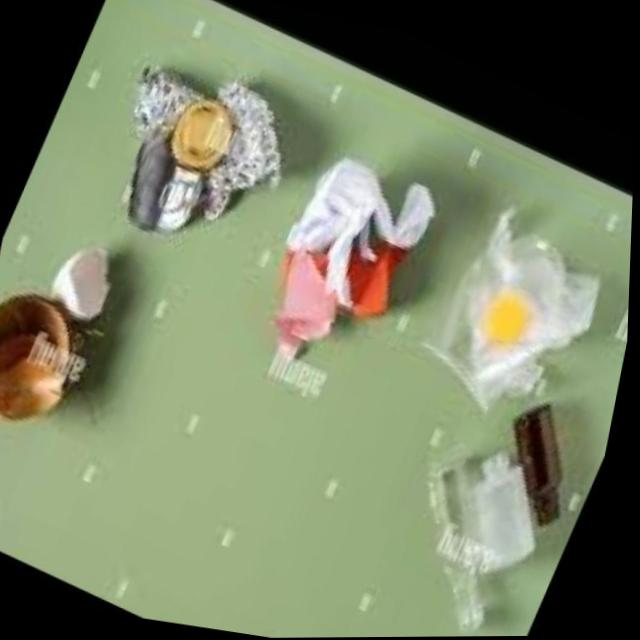clothes: (77, 29, 317, 279)
fabric: (0, 207, 145, 462)
foam box: (364, 439, 562, 638), (475, 368, 620, 542)
food: (271, 105, 476, 309)
leaf: (394, 162, 635, 447), (437, 414, 592, 595)
trash: (241, 189, 437, 420)
